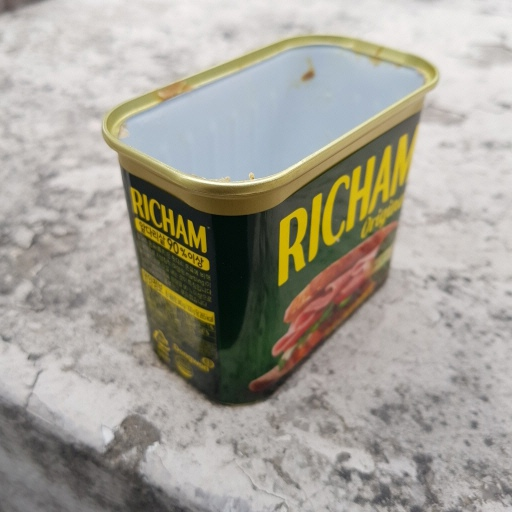Metal_2: (100, 31, 442, 410)
